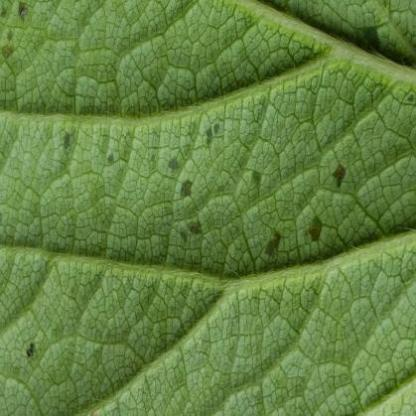Strawberry_Angular_LeafSpot: (0, 0, 363, 267), (14, 329, 48, 372)
